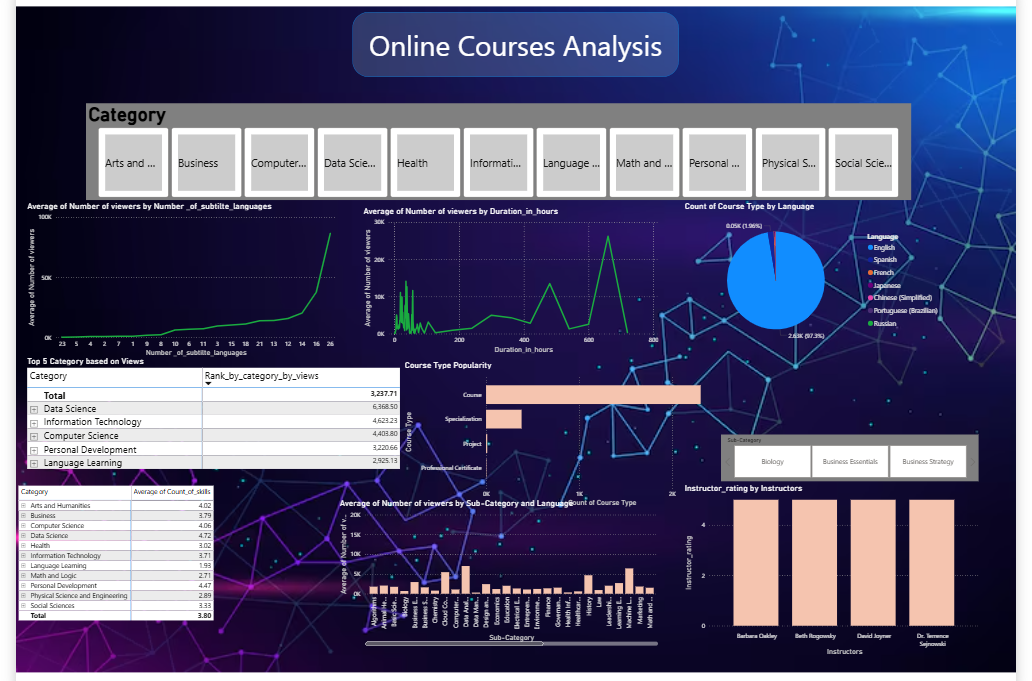

Layout of this report page (visuals, bound fields, positions):
{"tool":"powerbi","page":{"name":"Page 2","canvas":[2000,1400],"ordinal":0},"visuals":[{"type":"shape","box":[673.3,40,653.3,130],"z":0},{"type":"advancedSlicerVisual","fields":{"Values":["Online_Courses.Category"]},"box":[140,223.3,1650,193.3],"z":1000},{"type":"barChart","title":"Course Type Popularity","fields":{"Category":["Online_Courses.Course Type"],"Y":["CountNonNull(Online_Courses.Course Type)"]},"box":[772.5,735,645,300],"z":2000},{"type":"columnChart","title":"Average of Number of viewers by Sub-Category and Language","fields":{"Category":["Online_Courses.Sub-Category","Online_Courses.Language"],"Y":["Avg(Online_Courses.Number of viewers)"]},"box":[643.3,1013.3,646.7,300],"z":3000},{"type":"pieChart","fields":{"Category":["Online_Courses.Language"],"Y":["CountNonNull(Online_Courses.Course Type)"]},"box":[1331.7,418.3,525,300],"z":4000},{"type":"pivotTable","title":"Top 5 Category based on Views","fields":{"Rows":["Online_Courses.Category","Online_Courses.Language"],"Values":["Online_Courses.Rank_by_category_by_views"]},"box":[17.5,727.5,755,257.5],"z":5000},{"type":"lineChart","fields":{"Y":["Avg(Online_Courses.Number of viewers)"],"Category":["Online_Courses.Number _of_subtilte_languages"]},"box":[17.5,417.5,627.5,317.5],"z":6000},{"type":"columnChart","fields":{"Category":["Teachers.Instructors"],"Y":["Teachers.Instructor_rating"]},"box":[1333.3,983.3,600,350],"z":7000},{"type":"slicer","fields":{"Values":["Teachers.Sub-Category"]},"box":[1410,885,515,93.3],"z":8000},{"type":"lineChart","fields":{"Category":["Online_Courses.Duration_in_hours"],"Y":["Avg(Online_Courses.Number of viewers)"]},"box":[690,426.7,600,300],"z":8001},{"type":"pivotTable","fields":{"Values":["Avg(Online_Courses.Count-os_skills)"],"Rows":["Online_Courses.Category","Online_Courses.Sub-Category"]},"box":[0,983.3,613.3,416.7],"z":8002}]}

Visuals, with their boxes on the page's 2000x1400 design canvas (x1, y1, x2, y2). These are canvas units, not pixel positions in the 1032x681 screenshot, which may show the page scaled, cropped or inside an application window:
shape: [x1=673, y1=40, x2=1327, y2=170]
advancedSlicerVisual - Online_Courses.Category: [x1=140, y1=223, x2=1790, y2=417]
"Course Type Popularity" barChart: [x1=772, y1=735, x2=1418, y2=1035]
"Average of Number of viewers by Sub-Category and Language" columnChart: [x1=643, y1=1013, x2=1290, y2=1313]
pieChart - Online_Courses.Language x CountNonNull(Online_Courses.Course Type): [x1=1332, y1=418, x2=1857, y2=718]
"Top 5 Category based on Views" pivotTable: [x1=18, y1=728, x2=772, y2=985]
lineChart - Avg(Online_Courses.Number of viewers) x Online_Courses.Number _of_subtilte_languages: [x1=18, y1=418, x2=645, y2=735]
columnChart - Teachers.Instructors x Teachers.Instructor_rating: [x1=1333, y1=983, x2=1933, y2=1333]
slicer - Teachers.Sub-Category: [x1=1410, y1=885, x2=1925, y2=978]
lineChart - Online_Courses.Duration_in_hours x Avg(Online_Courses.Number of viewers): [x1=690, y1=427, x2=1290, y2=727]
pivotTable - Avg(Online_Courses.Count-os_skills) x Online_Courses.Category: [x1=0, y1=983, x2=613, y2=1400]
